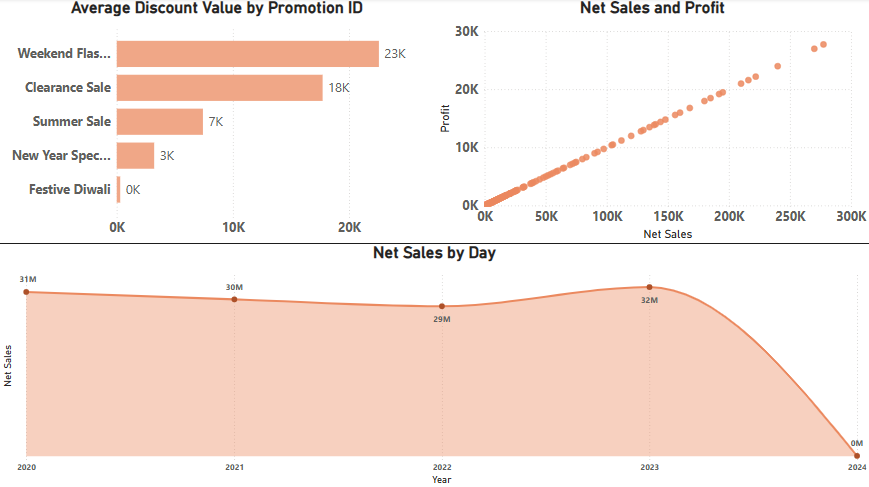

The page's visual inventory and layout, read from the dashboard file:
{"tool":"powerbi","page":{"name":"Overview","canvas":[1280,720],"ordinal":0},"visuals":[{"type":"areaChart","title":"Net Sales by Day","fields":{"Category":["Date Table 1.Date.Variation.Date Hierarchy.Year","Date Table 1.Date.Variation.Date Hierarchy.Quarter","Date Table 1.Date.Variation.Date Hierarchy.Month","Date Table 1.Date.Variation.Date Hierarchy.Day"],"Y":["Sum(Fact Table.Net Sales)"]},"box":[0,360,1279.8,360],"z":0},{"type":"scatterChart","fields":{"X":["Fact Table.Net Sales"],"Y":["Fact Table.Profit"]},"box":[640.7,0,639.2,360],"z":1000},{"type":"barChart","title":"Average Discount Value by Promotion ID","fields":{"Y":["Avg(Fact Table.Discount Value)"],"Category":["Dim Promotion.Promotion Name"]},"box":[0,0,640.7,360],"z":2000}]}

Visuals, with their boxes in screenshot pixels (x1, y1, x2, y2), scaled from the page's 1280x720 canvas onto the 869x487 screenshot:
"Net Sales by Day" areaChart: Rect(0, 244, 868, 486)
scatterChart - Fact Table.Net Sales x Fact Table.Profit: Rect(435, 0, 868, 244)
"Average Discount Value by Promotion ID" barChart: Rect(0, 0, 435, 244)
